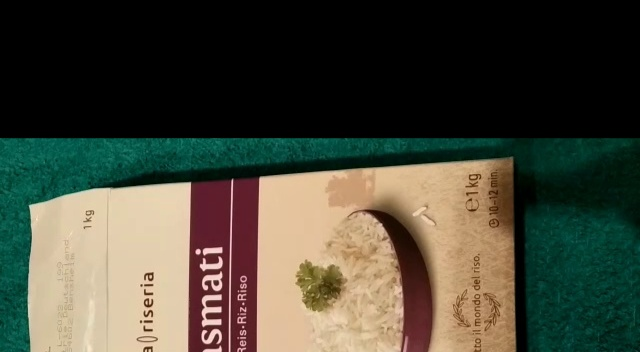basmati_rice: (20, 154, 525, 352)
